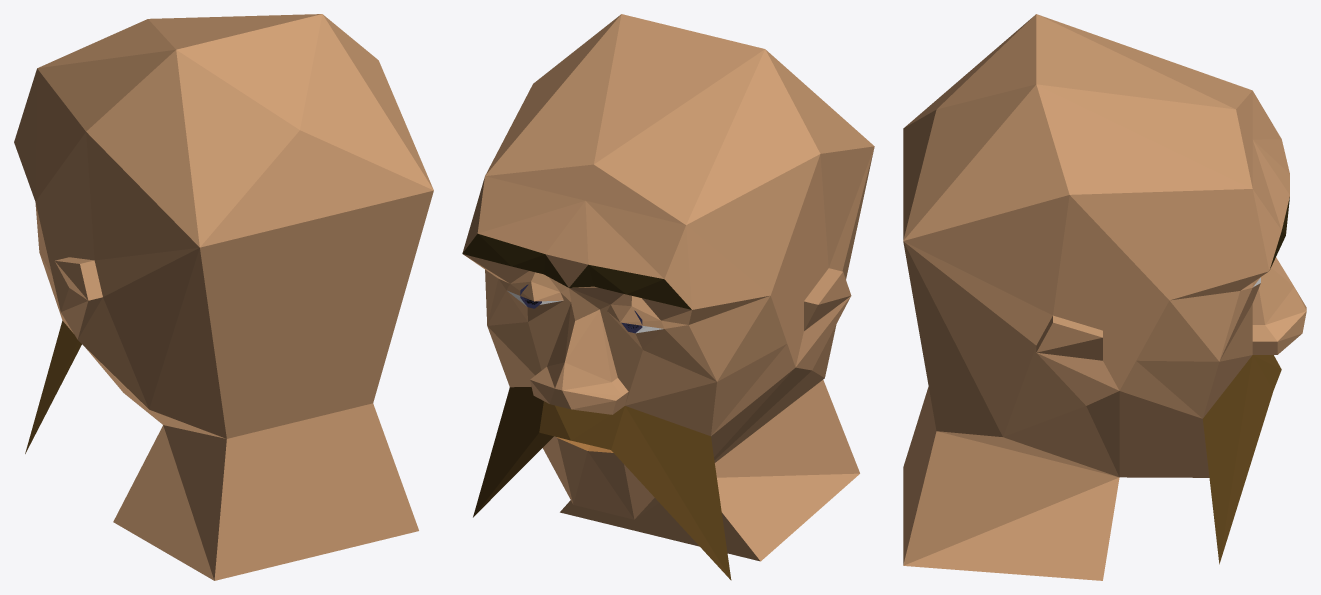
The model's file is npc_chat_kamen_0.obj.
3 renders of one model, left to right at view 1: azimuth 30°, elevation 25°; view 2: azimuth 150°, elevation 25°; view 3: azimuth 270°, elevation 25°, orthographic.
Bounding box in the file's own units: 0.6875 × 1 × 0.7578.
